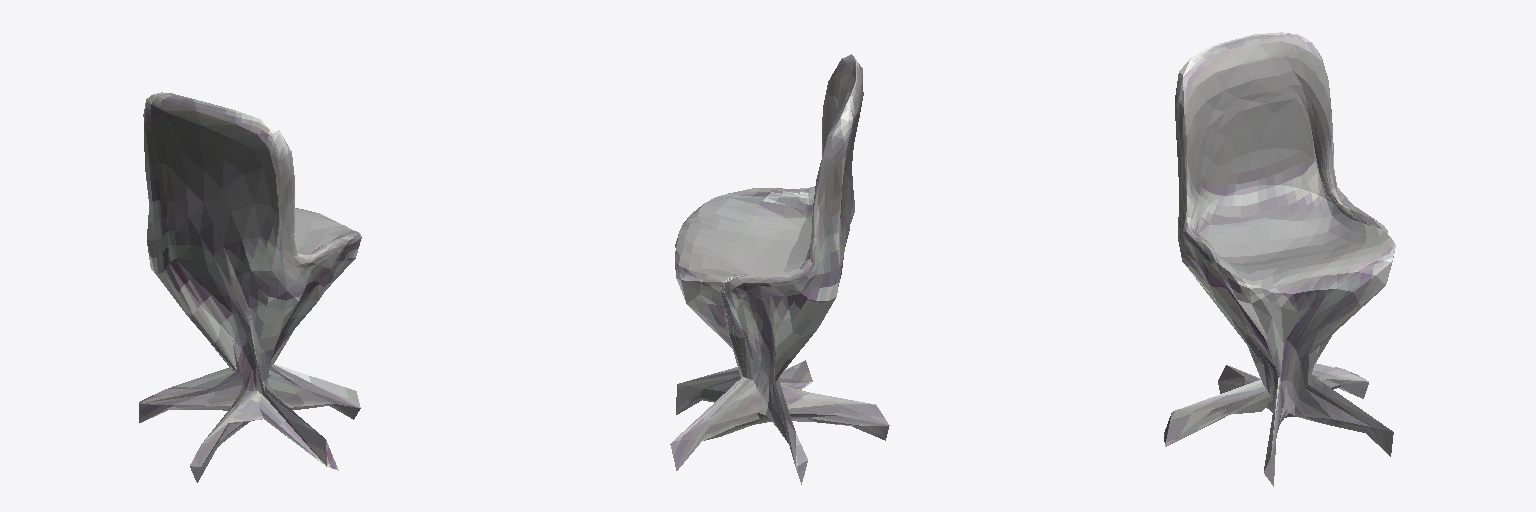
The picture shows the model from 3 angles: view 1: azimuth 30°, elevation 25°; view 2: azimuth 150°, elevation 25°; view 3: azimuth 270°, elevation 25°; orthographic projection.
Bounding box in the file's own units: 0.5464 × 1 × 0.569.
Materials: 1 (1 with a texture image).